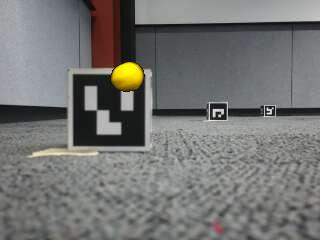lemon: (111, 63, 144, 91)
